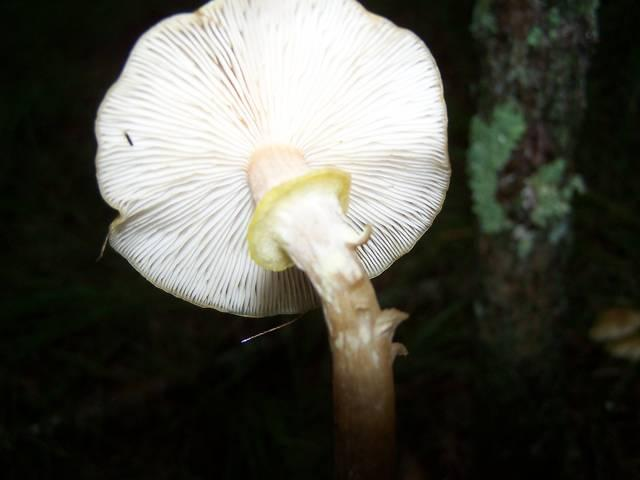edible_mushroom: (92, 0, 452, 478)
